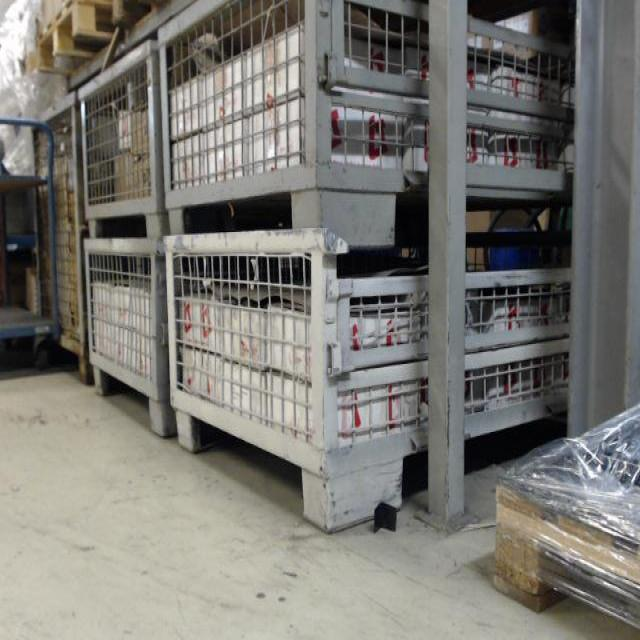pallet: (491, 481, 640, 634), (36, 0, 124, 75)
stillage: (159, 218, 576, 535), (159, 4, 577, 244), (78, 228, 166, 436), (31, 88, 90, 386), (78, 37, 159, 245)
